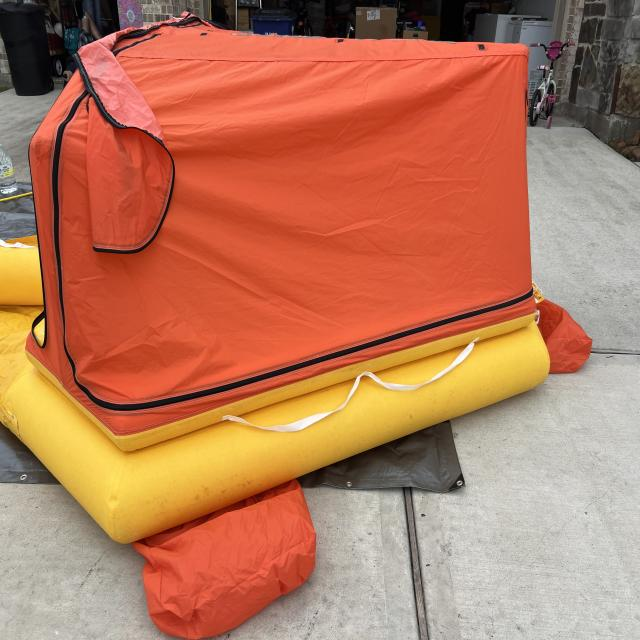Multi-person_life_raft: (1, 9, 592, 639)
